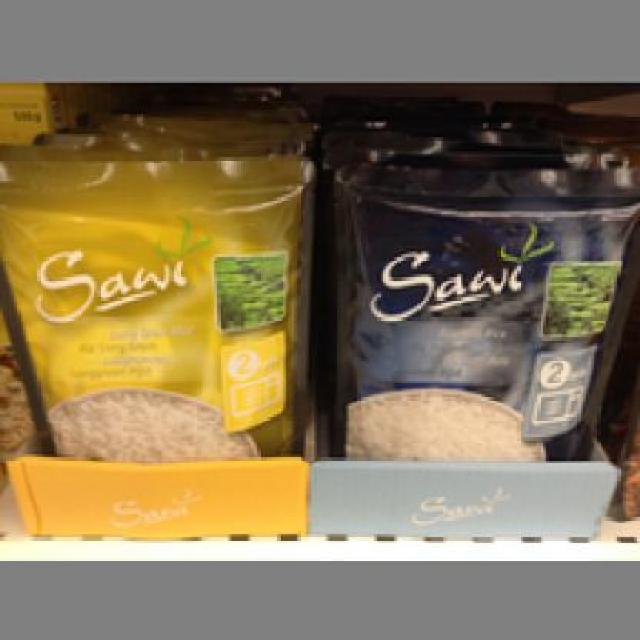Rice: (0, 141, 315, 458), (326, 154, 637, 463)
